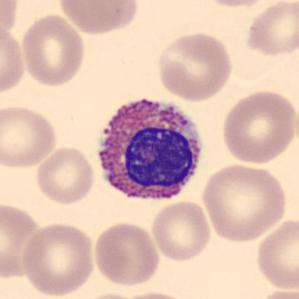Eosinophil: (89, 89, 208, 212)
RBC: (199, 162, 290, 244), (218, 87, 298, 166), (19, 220, 97, 297), (154, 30, 236, 102), (18, 12, 88, 88), (91, 220, 162, 287), (149, 199, 214, 263), (0, 103, 60, 170), (33, 144, 97, 206), (0, 200, 45, 281), (252, 216, 299, 291), (242, 0, 298, 58), (55, 0, 140, 36), (0, 22, 28, 98), (0, 0, 20, 40), (115, 289, 194, 299), (199, 0, 272, 9), (254, 286, 299, 299), (73, 291, 144, 299)
